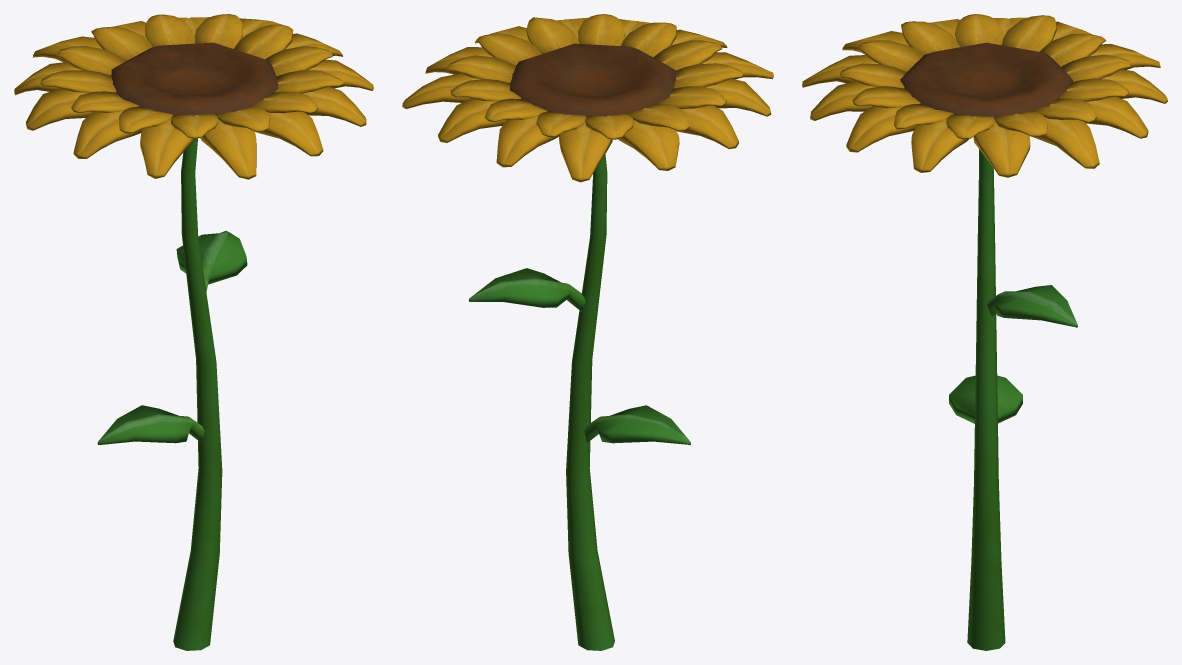
File: Girassol.fbx
3 views of the same model, side by side, from view 1: azimuth 30°, elevation 25°; view 2: azimuth 150°, elevation 25°; view 3: azimuth 270°, elevation 25° (orthographic).
Parts seen in each view (by area): view 1: Girassol; view 2: Girassol; view 3: Girassol.
Boxes of the visible parts, <box> form: Girassol: <box>14,14,373,650</box>; Girassol: <box>402,14,773,650</box>; Girassol: <box>802,14,1167,650</box>.
Size of the model in its own units: 162 by 283 by 164.
